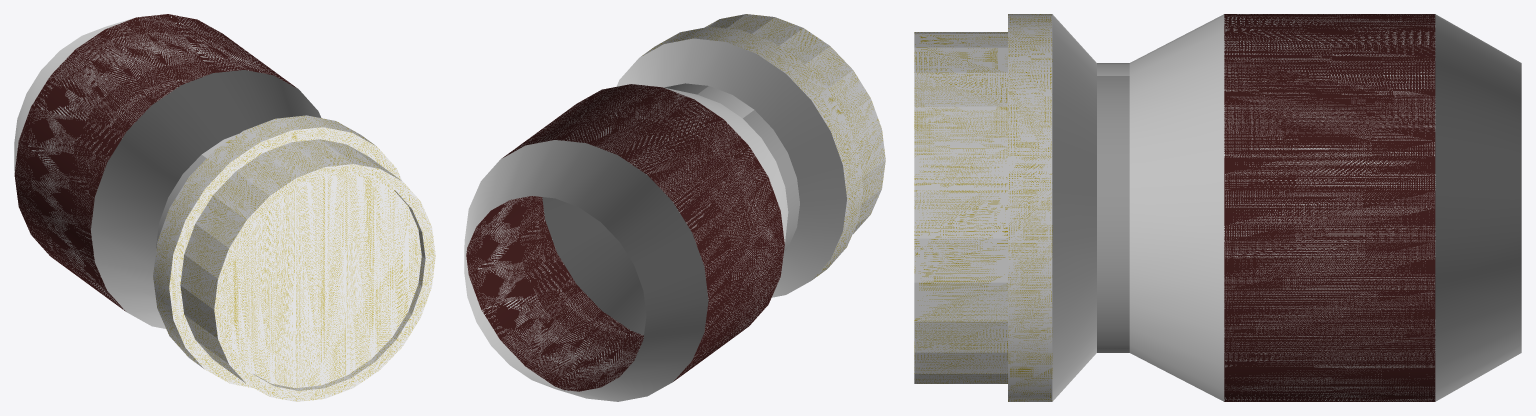
The model's file is model_align.obj.
The picture shows the model from 3 angles, left to right: view 1: azimuth 30°, elevation 25°; view 2: azimuth 150°, elevation 25°; view 3: azimuth 270°, elevation 25°; orthographic projection. The views are drawn at different scales.
Visible parts, largest first — view 1: mesh1_mesh1-geometry; view 2: mesh1_mesh1-geometry; view 3: mesh1_mesh1-geometry.
Boxes of the visible parts, x1,y1,x2,y2 form: mesh1_mesh1-geometry: (14, 14, 435, 401); mesh1_mesh1-geometry: (464, 14, 885, 401); mesh1_mesh1-geometry: (914, 14, 1521, 401).
Bounding box in the file's own units: 0.0986 × 0.0986 × 0.1537.
